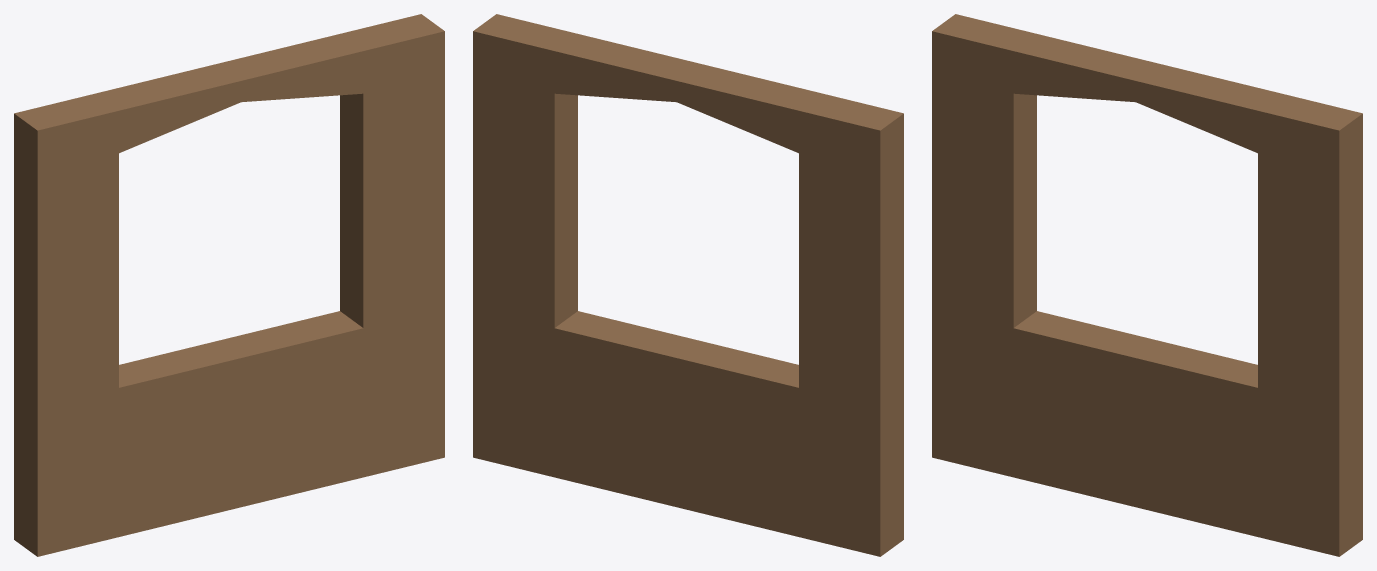
The model's file is wood_window.glb.
3 renders of one model, left to right at view 1: azimuth 30°, elevation 25°; view 2: azimuth 150°, elevation 25°; view 3: azimuth 330°, elevation 25°, orthographic.
Parts seen in each view (by area): view 1: Cube; view 2: Cube; view 3: Cube.
Part boxes in pixels (<box>): Cube: <box>14,14,444,556</box>; Cube: <box>473,14,903,556</box>; Cube: <box>932,14,1362,556</box>.
Bounding box in the file's own units: 1 × 1 × 0.1.
